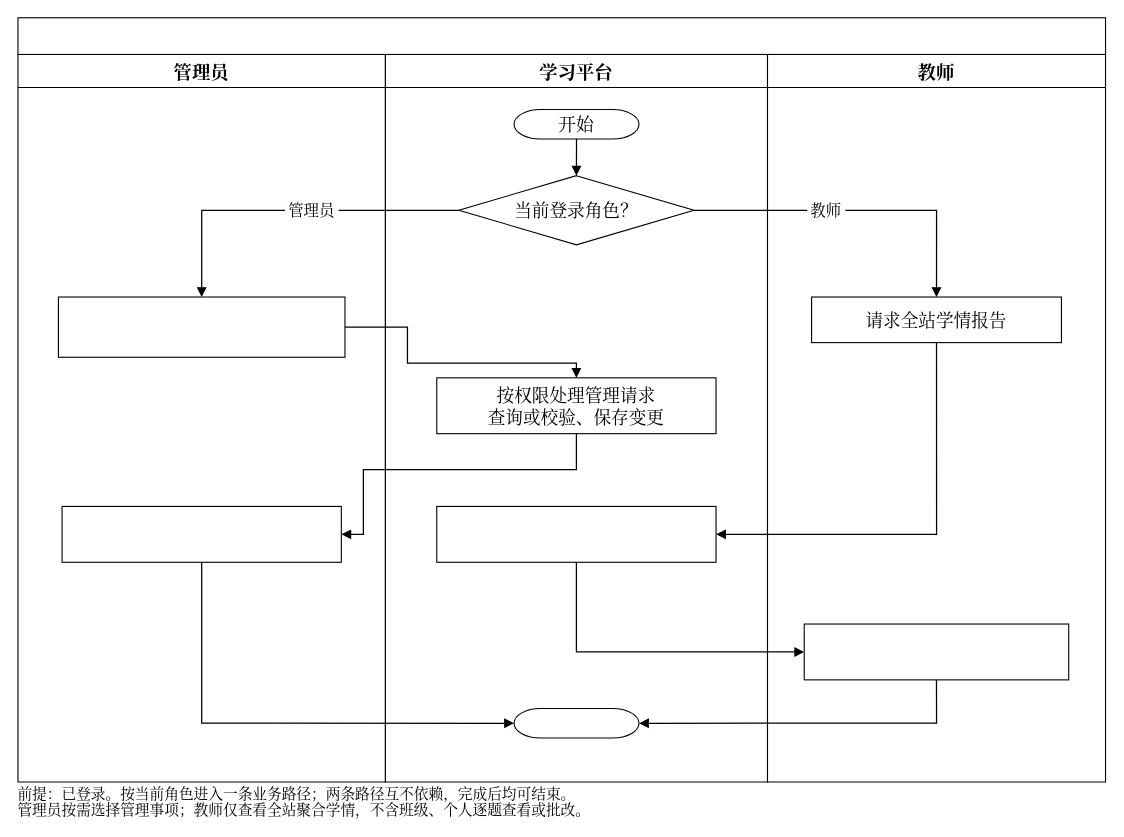
This 1124x837 diagram has some shape labels left out. Each missing label, with the box of its shape:
图3.4 管理与学情查看业务流程图: (17, 17, 1106, 54)
按权限读取当前记录 聚合全站学情数据: (436, 505, 716, 562)
接收查询／操作结果 失败时按提示处理: (61, 505, 341, 562)
查看汇总报告 或无数据／失败提示: (803, 623, 1069, 680)
结束: (513, 707, 639, 738)
选择管理事项 科目／知识点、账号、公告: (57, 296, 345, 357)
